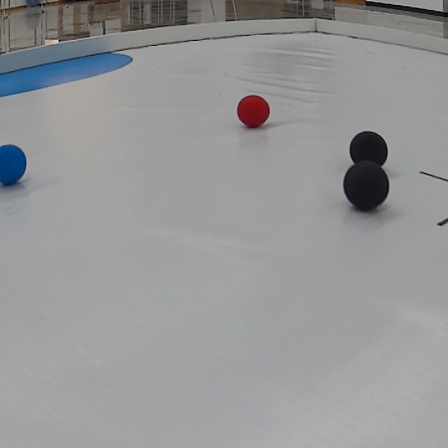black: (343, 127, 397, 164), (345, 164, 393, 204)
blue: (0, 47, 140, 94), (0, 143, 37, 190)
red: (235, 94, 270, 129)
